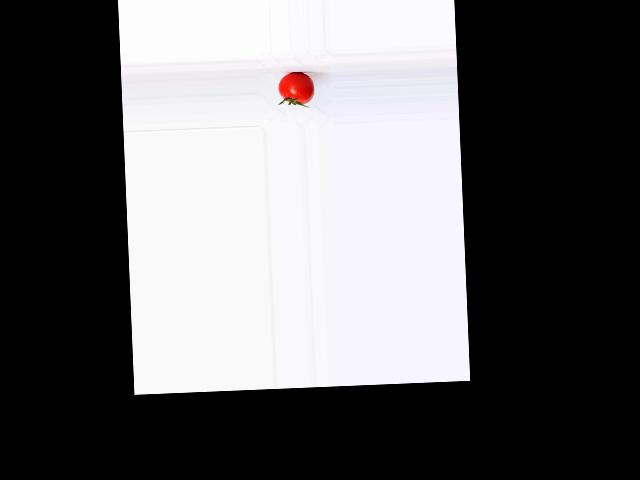tomato: (278, 71, 315, 104)
